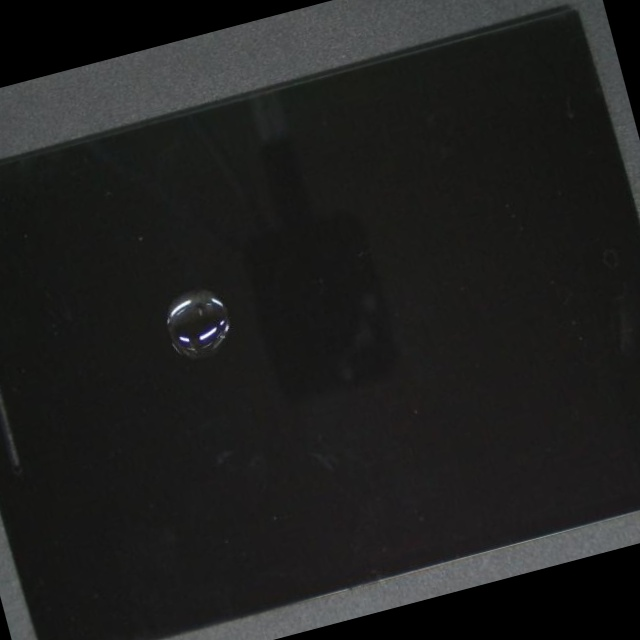oil: (51, 142, 356, 443)
